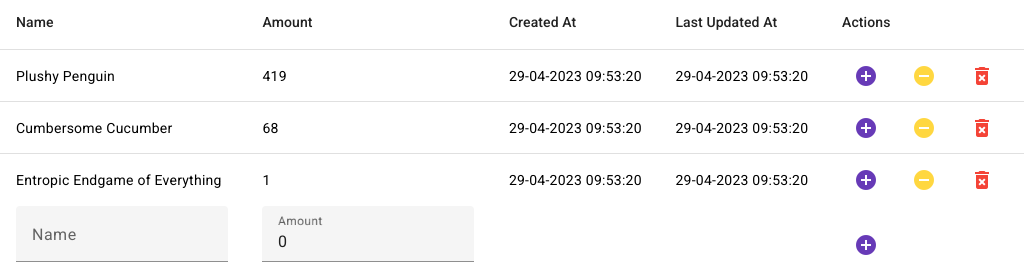
Test: Inventory E2E › GIVEN the inventory is not empty › AND item amount equals 1 › WHEN user clicks the decrement button THEN should mark as out of stock
Expected: the cell with test id "amount-3" reads "1", [262,172,270,188]
Click the button with test id "decrement-btn-3" at point(924, 180), box [900,156,948,204]
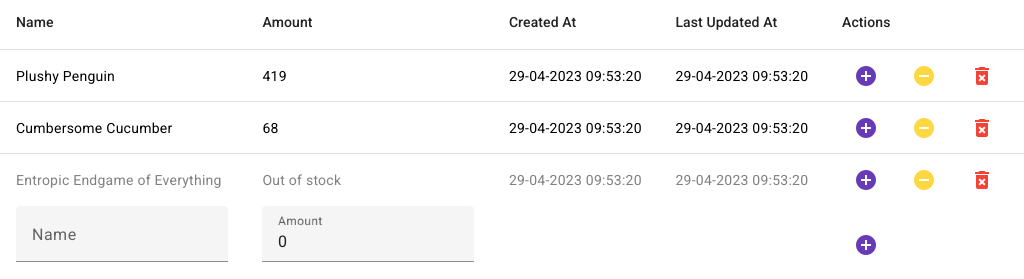
Now the cell with test id "amount-3" reads "Out of stock", box [262,172,341,188]
